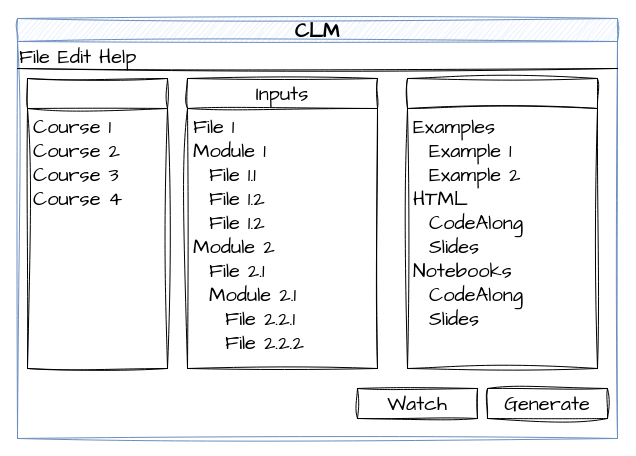
Some shapes in this 636 by 456 pixel diagram are drawn without their labels. The box of each missing label's shape, as (x1, y1, x2, y2) in pixels:
Courses: (26, 78, 168, 368)
Outputs: (406, 78, 598, 368)
